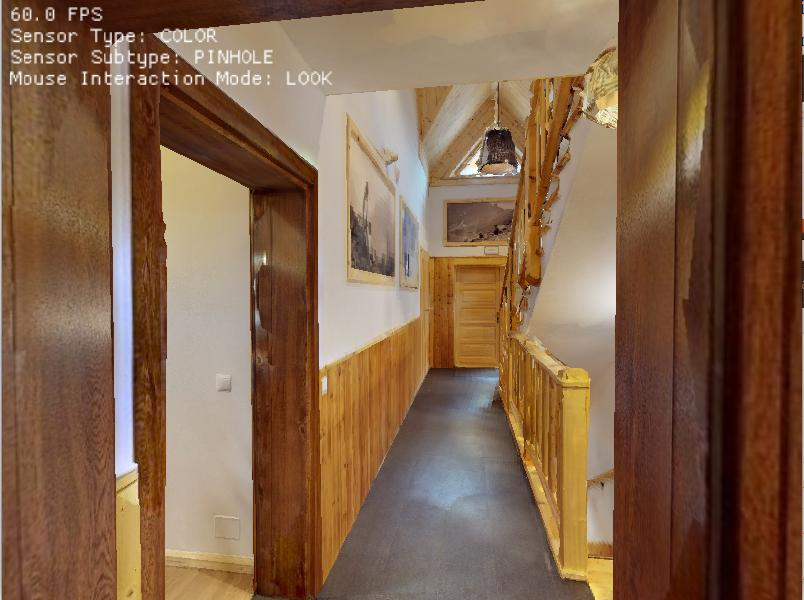door: (451, 265, 501, 359)
door-frame: (48, 0, 677, 600), (137, 87, 335, 600)
stairs: (511, 345, 617, 574)
